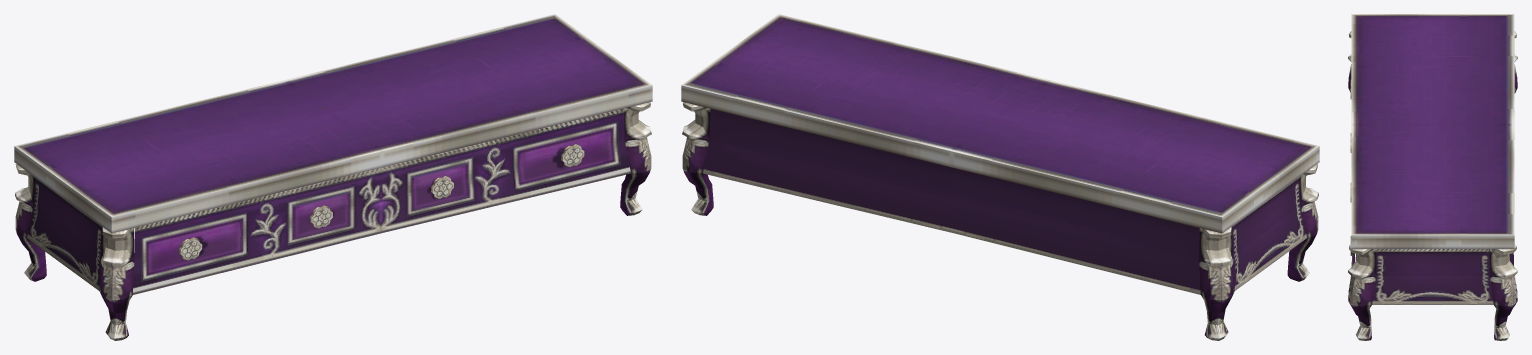
File: furni_0201108_01.FBX
3 renders of one model, left to right at view 1: azimuth 30°, elevation 25°; view 2: azimuth 150°, elevation 25°; view 3: azimuth 270°, elevation 25°, orthographic. The views are drawn at different scales.
Parts seen in each view (by area): view 1: furni_0201108_01; view 2: furni_0201108_01; view 3: furni_0201108_01.
Part boxes in pixels (x1=…): furni_0201108_01: x1=14, y1=14, x2=652, y2=340; furni_0201108_01: x1=681, y1=14, x2=1319, y2=340; furni_0201108_01: x1=1348, y1=14, x2=1517, y2=340.
Bounding box in the file's own units: 223 × 50.32 × 71.33.
Materials: 1 (1 with a texture image).
